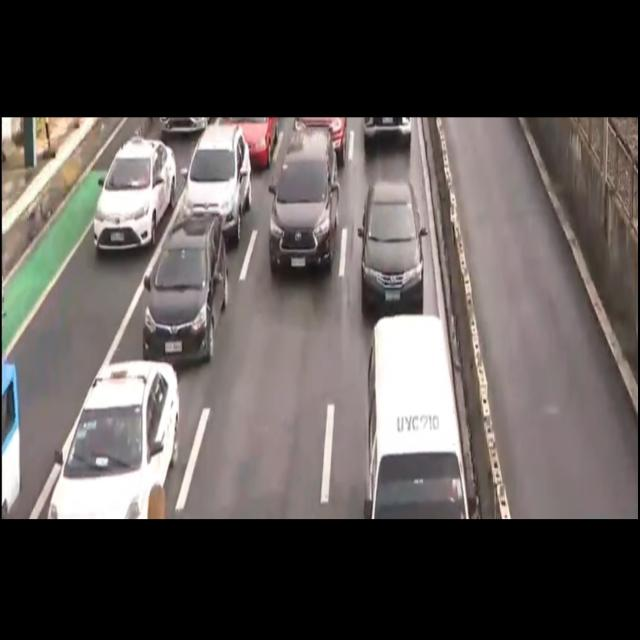SUV: (268, 132, 340, 278), (182, 126, 252, 234)
Sedan: (48, 367, 182, 520), (144, 218, 228, 357), (89, 129, 178, 255), (362, 173, 422, 311)
Van: (360, 317, 477, 520)
